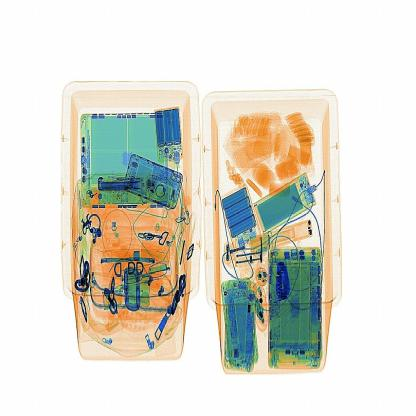scissors: (265, 255, 302, 314)
